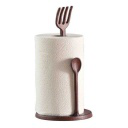fork: (48, 4, 75, 37)
